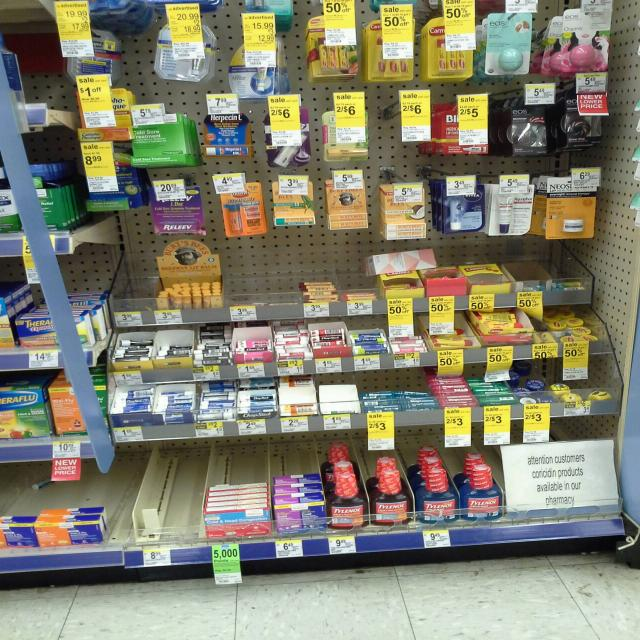empty: (110, 440, 206, 545), (231, 247, 303, 313), (114, 248, 164, 315)
